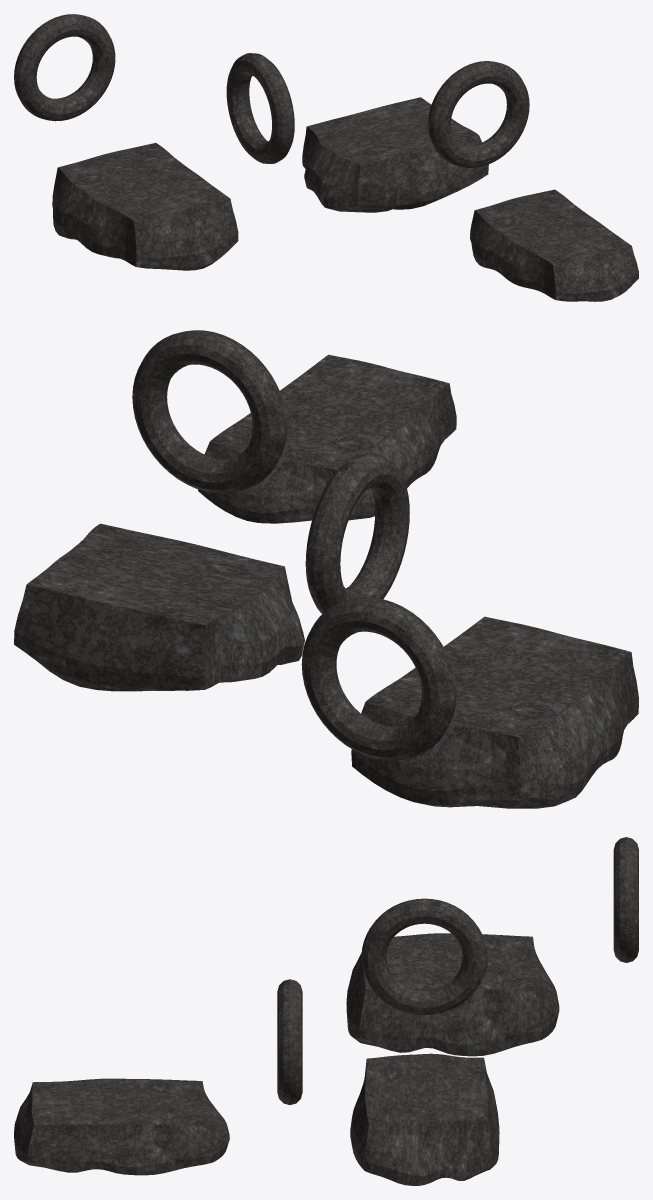
The model's file is Level3_2bis.fbx.
3 views of the same model, one above another, from view 1: azimuth 30°, elevation 25°; view 2: azimuth 150°, elevation 25°; view 3: azimuth 270°, elevation 25° (orthographic). The views are drawn at different scales.
Parts seen in each view (by area): view 1: Nuage; view 2: Nuage; view 3: Nuage.
Part boxes in pixels (bbox=[...]): Nuage: bbox=[14, 14, 638, 301]; Nuage: bbox=[14, 330, 638, 808]; Nuage: bbox=[14, 837, 638, 1185].
Bounding box in the file's own units: 1464 × 637 × 1858.
Materials: 1 (1 with a texture image).
